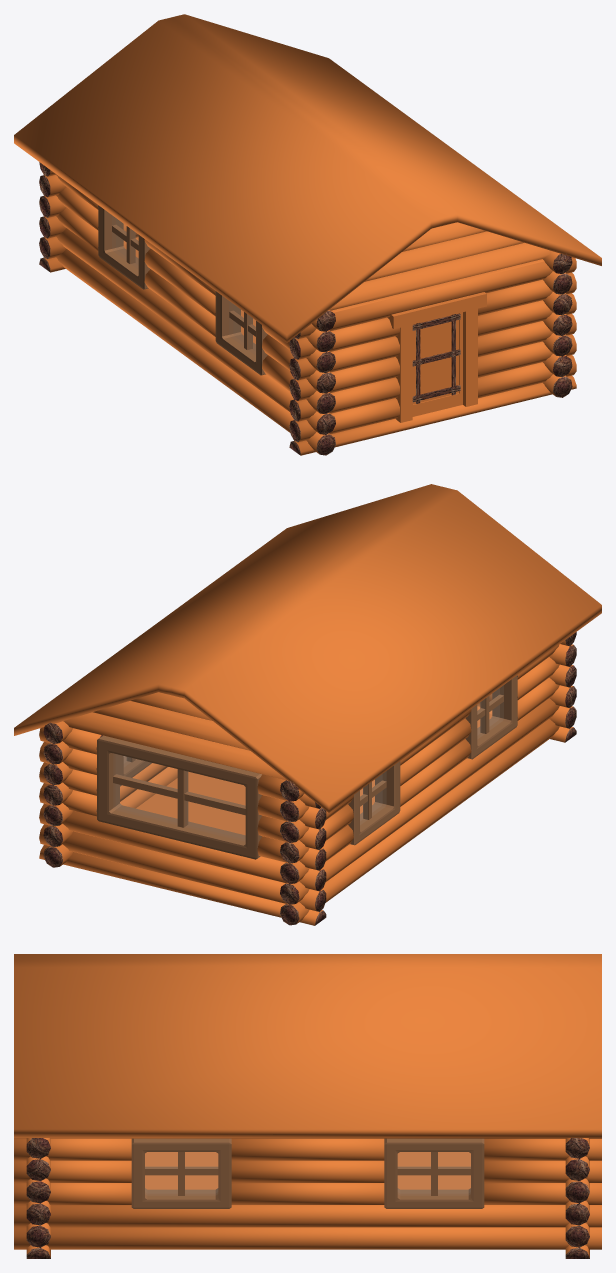
File: LogCabin.fbx
3 renders of one model, top to bottom at view 1: azimuth 30°, elevation 25°; view 2: azimuth 150°, elevation 25°; view 3: azimuth 270°, elevation 25°, orthographic. The views are drawn at different scales.
Visible parts, largest first — view 1: Roof, DoorSides, DoorLedge, WallLower.001, WallDoorFrame.001, Cube, DoorLedge.001, Cube.002, WoodFrame.002, WoodFrame.003, Cube.001, WallDoorFrame.002 (+7 smaller); view 2: Roof, WallLower.001, WallBackLower, WoodFrame.004, WallDoorFrame.001, WallBackUpper, Window.004, WallBackWindowFrame, DoorLedge.002, Floor, WallLower.002, WoodFrame.003 (+7 smaller); view 3: Roof, WallLower.002, WallDoorFrame.002, WoodFrame, WoodFrame.001, Floor, Window, Window.001, DoorSides, WallBackWindowFrame, WallBackLower, WallUpper.002.
Boxes of the visible parts, x1,y1,x2,y2 form: Roof: [14, 14, 601, 342]; DoorSides: [289, 272, 576, 442]; DoorLedge: [294, 222, 576, 339]; WallLower.001: [56, 228, 335, 455]; WallDoorFrame.001: [56, 174, 335, 414]; Cube: [412, 312, 462, 416]; DoorLedge.001: [289, 375, 576, 455]; Cube.002: [395, 308, 477, 422]; WoodFrame.002: [98, 205, 150, 289]; WoodFrame.003: [215, 291, 267, 375]; Cube.001: [387, 292, 486, 328]; WallDoorFrame.002: [543, 292, 572, 356]; Roof: [14, 484, 601, 812]; WallLower.001: [280, 698, 559, 925]; WallBackLower: [39, 803, 326, 911]; WoodFrame.004: [97, 735, 261, 859]; WallDoorFrame.001: [280, 644, 559, 883]; WallBackUpper: [63, 692, 286, 779]; Window.004: [113, 754, 245, 838]; WallBackWindowFrame: [39, 727, 326, 870]; DoorLedge.002: [39, 845, 326, 925]; Floor: [136, 714, 492, 835]; WallLower.002: [43, 763, 177, 867]; WoodFrame.003: [465, 675, 517, 759]; Roof: [14, 954, 601, 1137]; WallLower.002: [14, 1205, 601, 1249]; WallDoorFrame.002: [14, 1138, 601, 1204]; WoodFrame: [131, 1138, 231, 1208]; WoodFrame.001: [384, 1138, 484, 1208]; Floor: [145, 1152, 470, 1189]; Window: [145, 1152, 218, 1195]; Window.001: [397, 1152, 470, 1195]; DoorSides: [26, 1138, 50, 1247]; WallBackWindowFrame: [565, 1138, 589, 1203]; WallBackLower: [565, 1201, 589, 1247]; WallUpper.002: [14, 1138, 601, 1138].
Bounding box in the file's own units: 799 × 508 × 1200.
